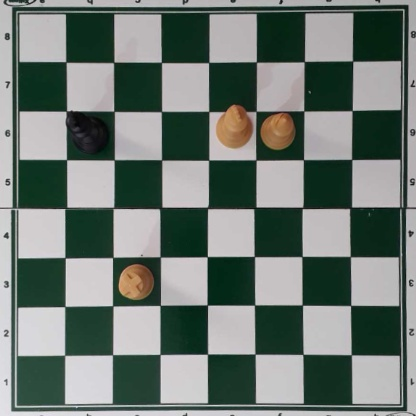black-king: (66, 112, 109, 152)
white-bishop: (259, 111, 294, 148)
white-king: (215, 103, 254, 149)
white-rook: (117, 264, 154, 300)
